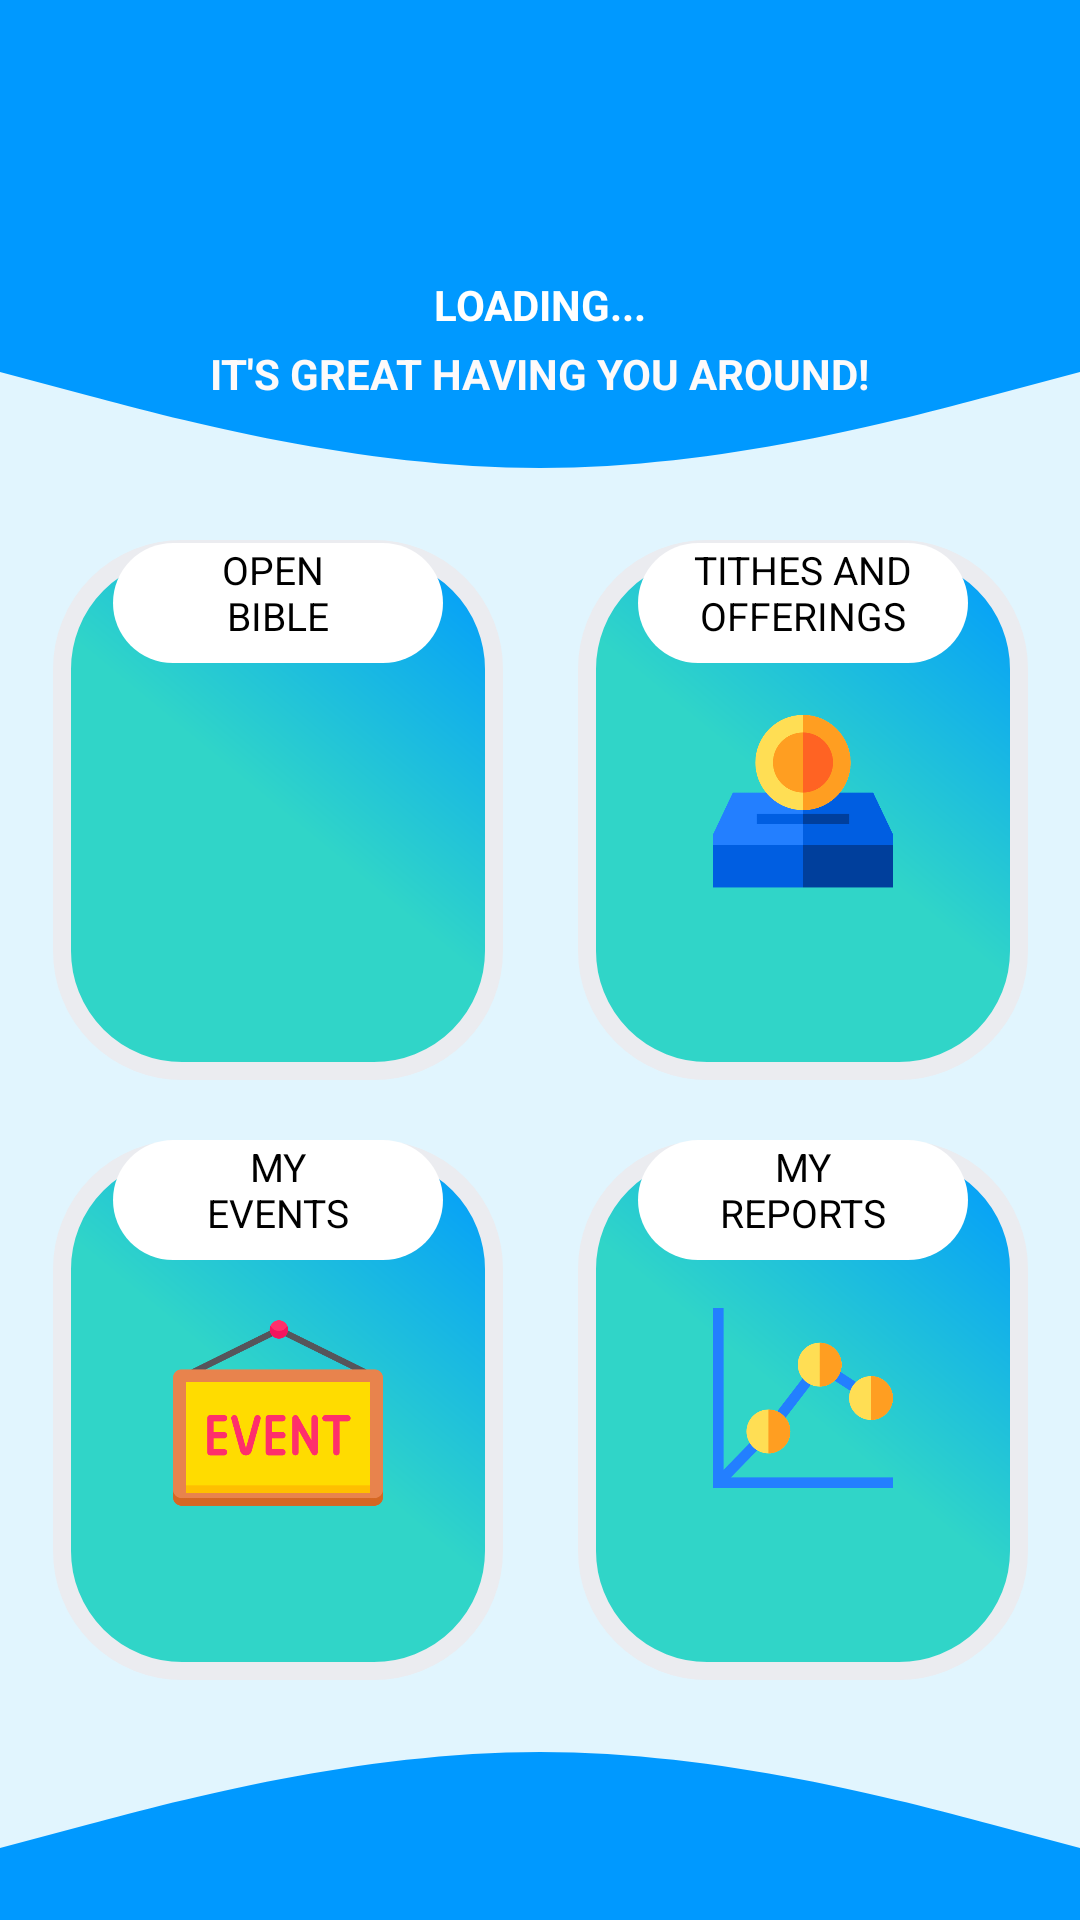

Where icons sit on this 1080px x 1920px app screen, as (x1, y1, x2, y2):
charity: (713, 715, 893, 888)
statistics: (713, 1308, 893, 1488)
